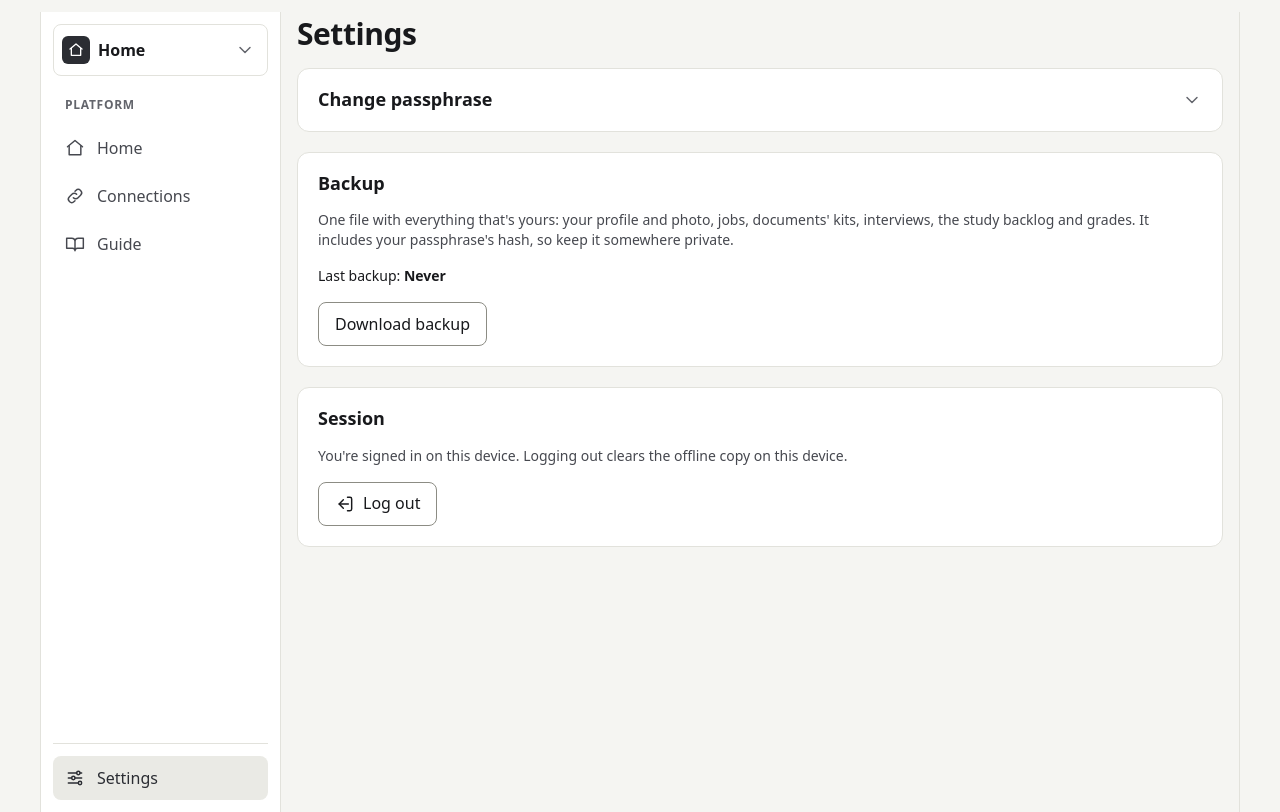
Settings → Backup › saves nothing and records nothing when the data can't be read
Click the button "Download backup". click: (403, 324)
box: [318,302,487,346]
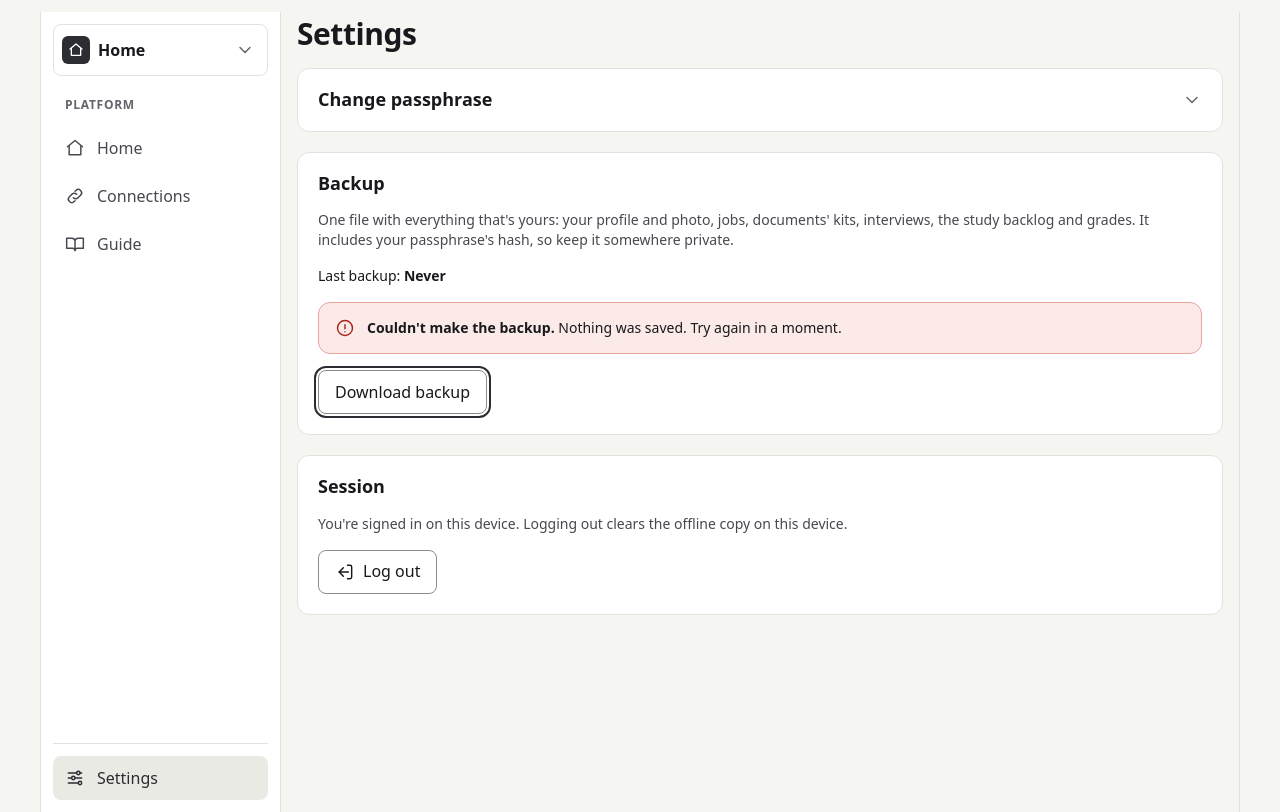
Expected: the text "Couldn't make the backup." is shown, [367,318,555,337]
